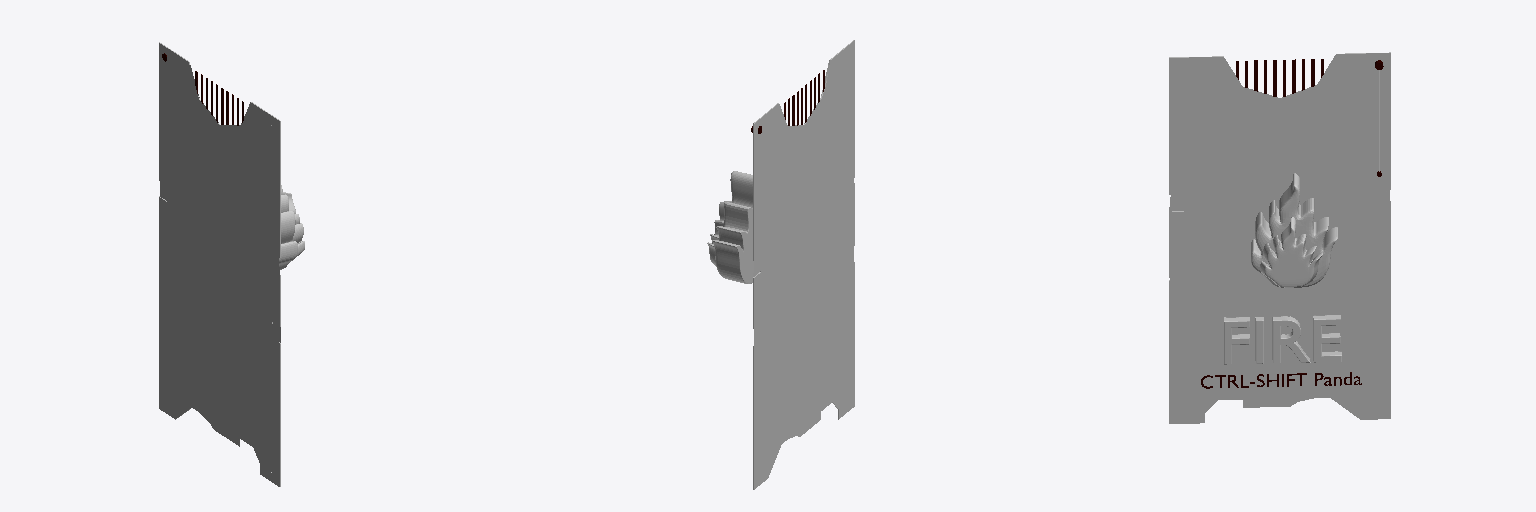
The model's file is fire-nft.obj.
The picture shows the model from 3 angles: view 1: azimuth 30°, elevation 25°; view 2: azimuth 150°, elevation 25°; view 3: azimuth 270°, elevation 25°; orthographic projection.
Parts seen in each view (by area): view 1: Cube.009, 21330_Flame_v1; view 2: Cube.009, 21330_Flame_v1; view 3: Cube.009, 21330_Flame_v1, Text.004, Text.006.
Boxes of the visible parts, <box> form: Cube.009: <box>159,42,280,486</box>; 21330_Flame_v1: <box>279,185,304,269</box>; Cube.009: <box>751,40,854,489</box>; 21330_Flame_v1: <box>707,171,753,283</box>; Cube.009: <box>1169,52,1390,423</box>; 21330_Flame_v1: <box>1251,173,1337,287</box>; Text.004: <box>1224,315,1341,364</box>; Text.006: <box>1201,372,1361,388</box>.
Size of the model in its own units: 2.76 by 11.44 by 6.28.